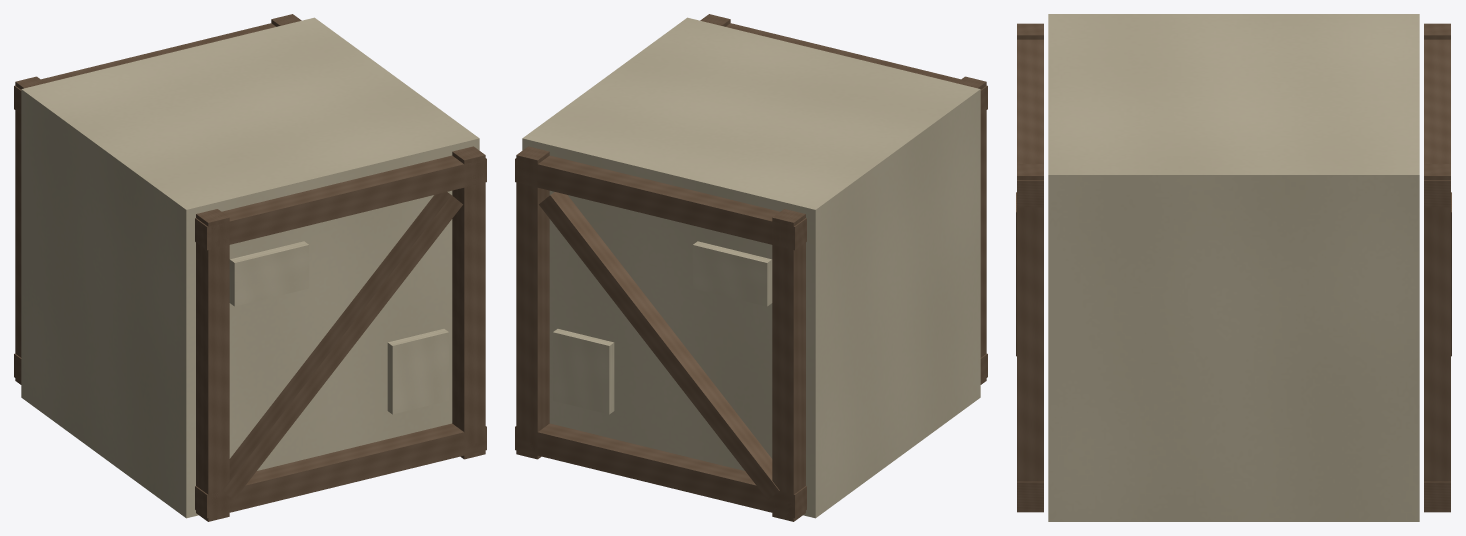
The model's file is lime_wall_z.glb.
The picture shows the model from 3 angles, left to right: view 1: azimuth 30°, elevation 25°; view 2: azimuth 150°, elevation 25°; view 3: azimuth 270°, elevation 25°; orthographic projection. The views are drawn at different scales.
Visible parts, largest first — view 1: G3_lime_z; view 2: G3_lime_z; view 3: G3_lime_z.
Boxes of the visible parts, x1,y1,x2,y2 form: G3_lime_z: (14, 14, 486, 521); G3_lime_z: (515, 14, 987, 521); G3_lime_z: (1016, 14, 1451, 521).
Size of the model in its own units: 0.985 by 0.99 by 1.13.
2 materials, 2 textured.
